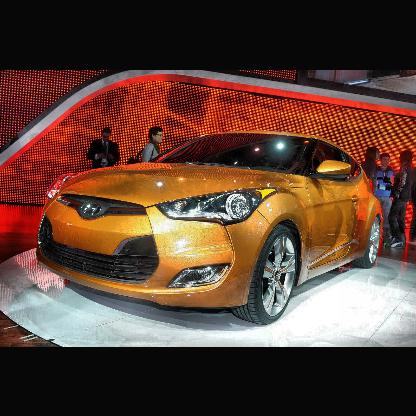Hyundai Veloster Hatchback 2012: (38, 130, 384, 325)
